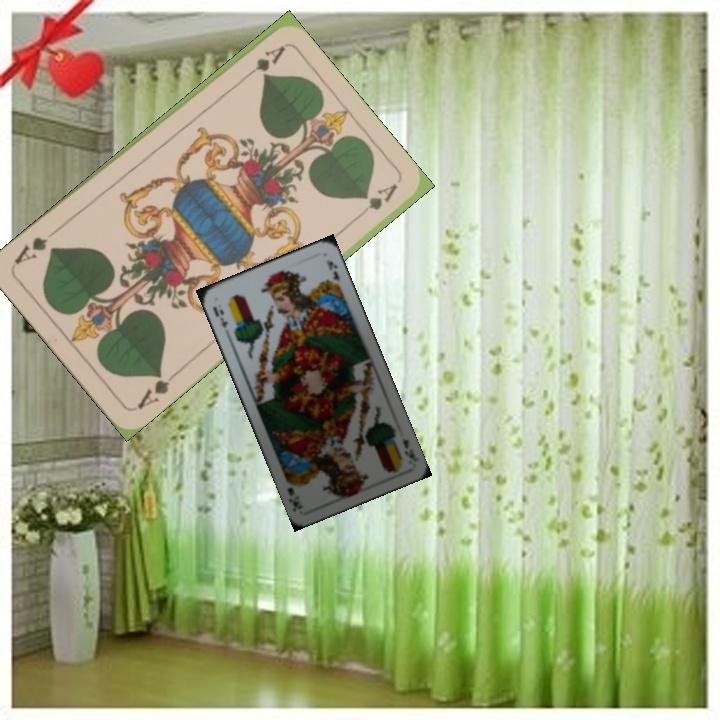EK: (398, 434, 421, 464), (209, 302, 231, 330)
GA: (236, 42, 287, 85), (133, 368, 180, 412)
